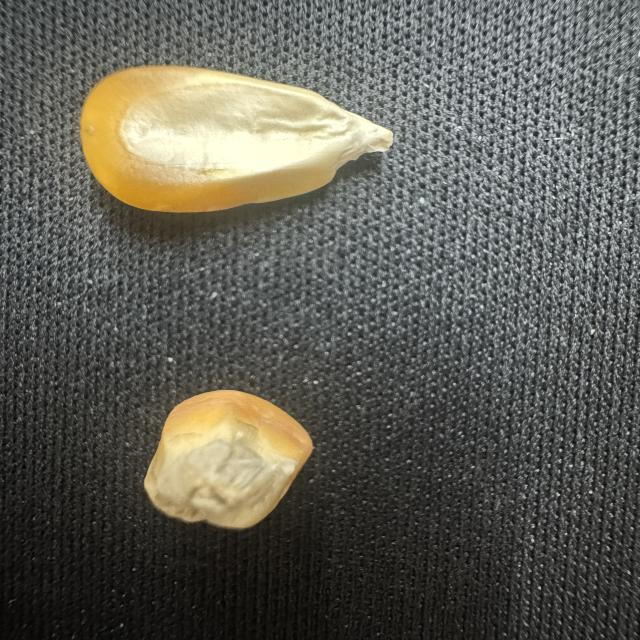Bad-Seed: (134, 383, 321, 533)
Good-Seed: (70, 61, 409, 218)
